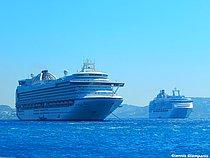Ship: (12, 56, 128, 124), (146, 85, 198, 123)
